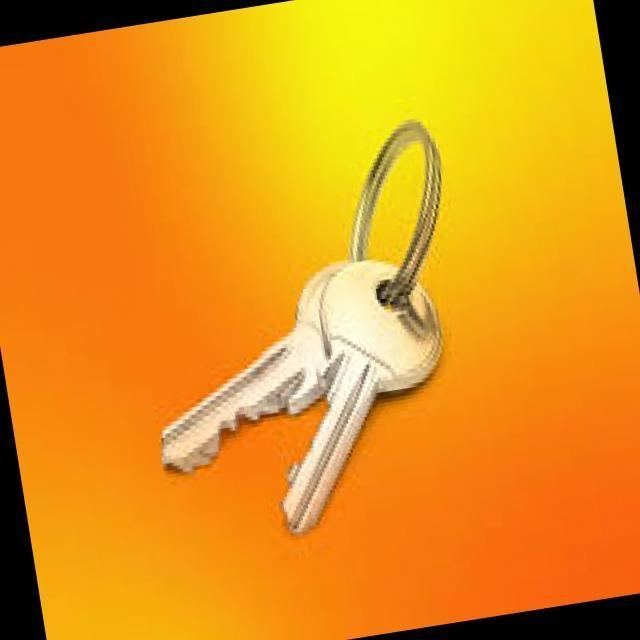Keys: (160, 118, 448, 538)
